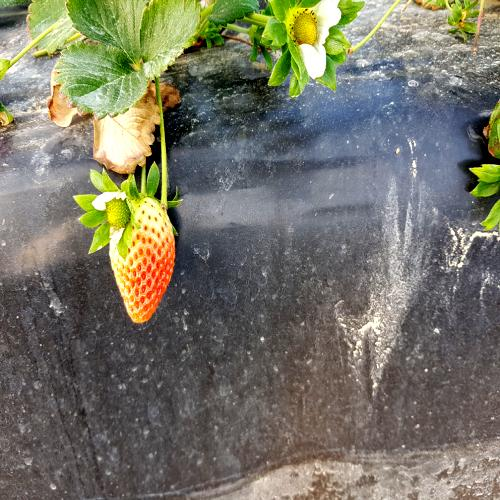partially-ripe: (109, 183, 180, 334)
